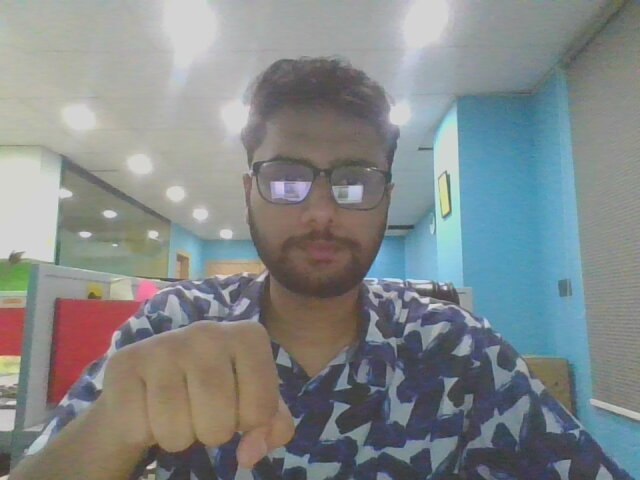yes: (91, 296, 326, 471)
